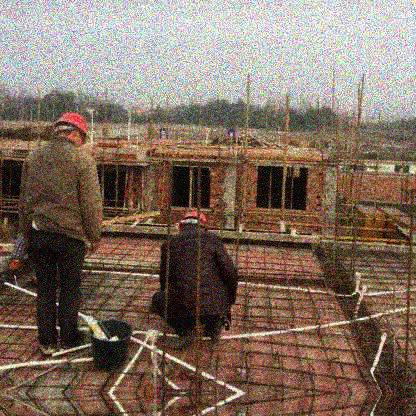helmet: (51, 113, 89, 151)
